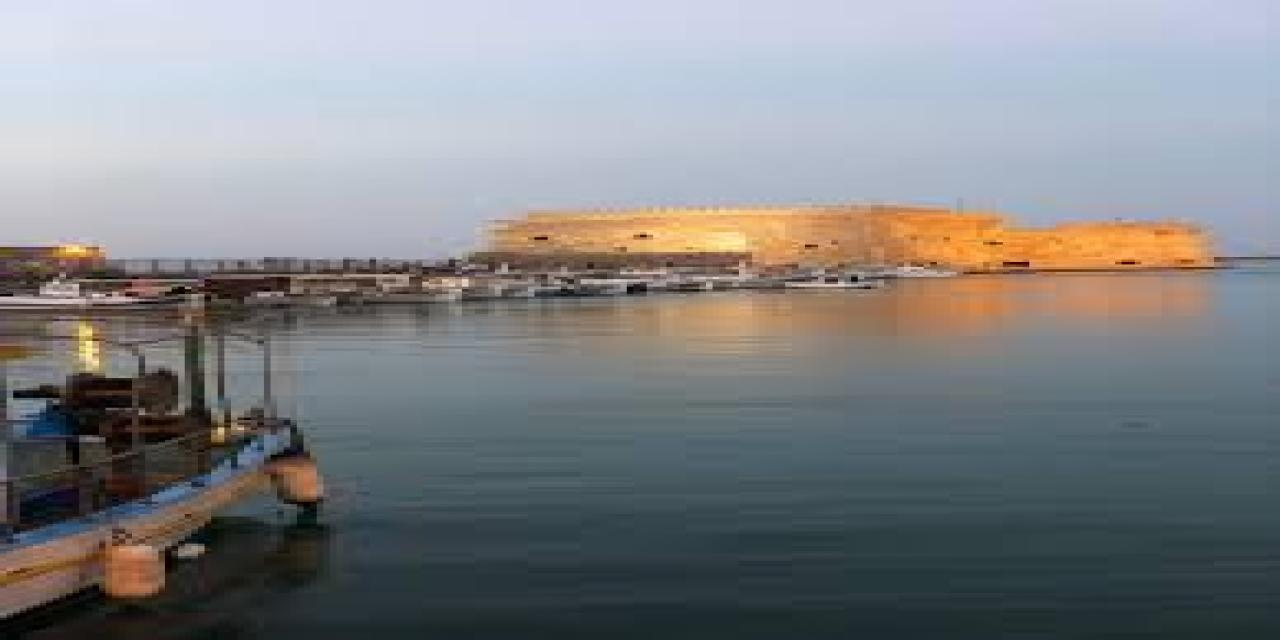Kules: (483, 204, 1235, 277)
